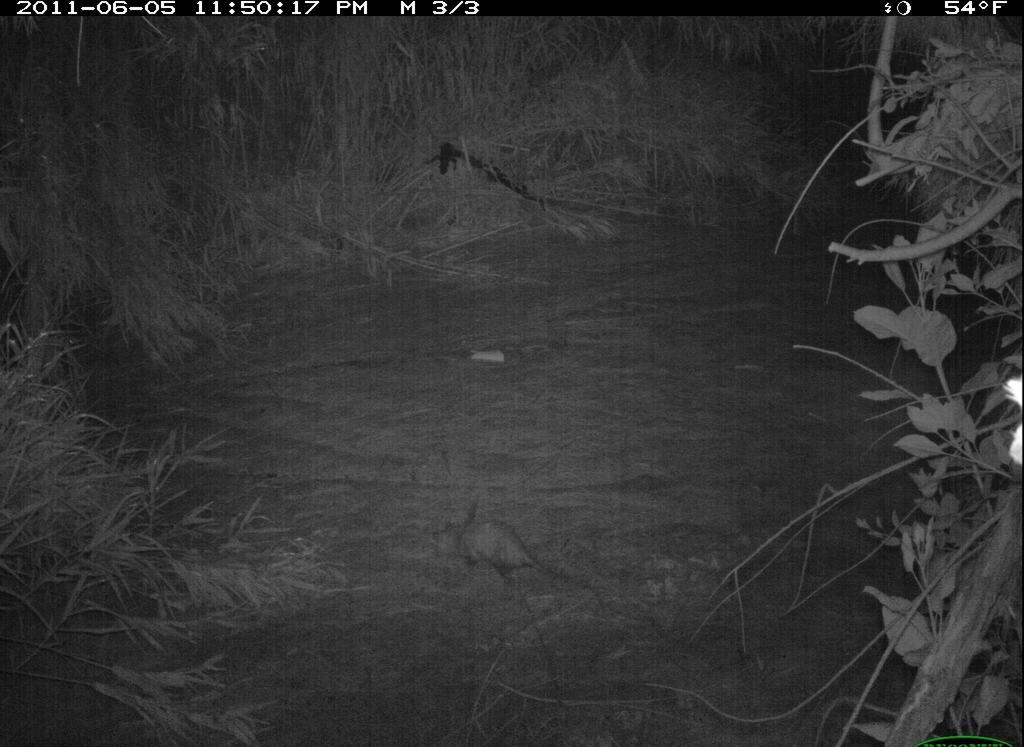opossum: (437, 496, 609, 617)
